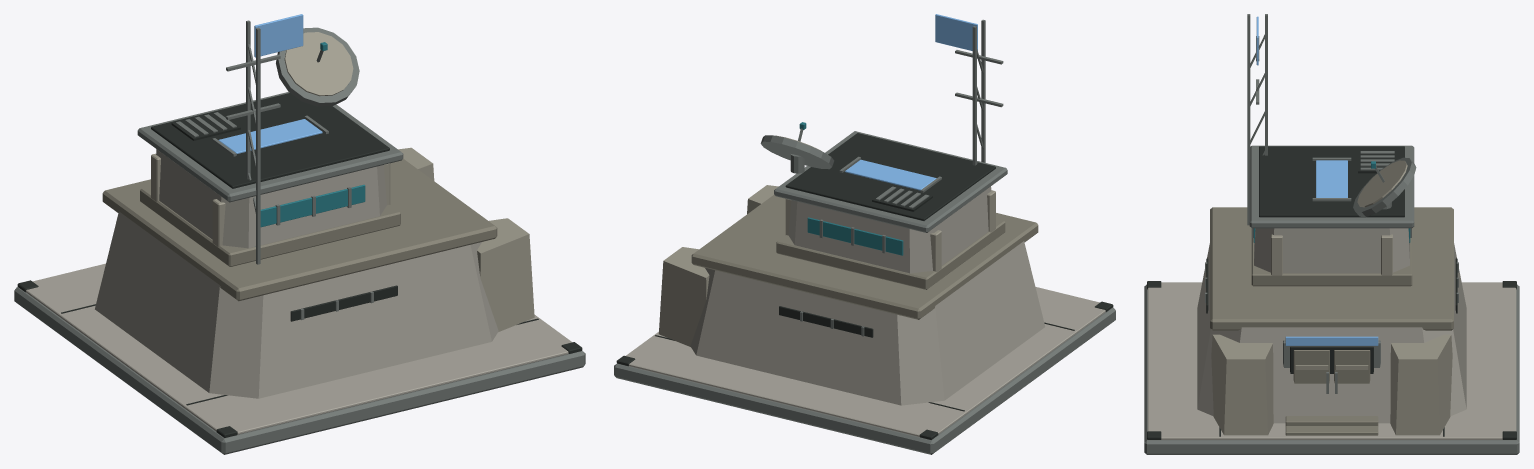
Rendered from command_bunker.glb.
3 renders of one model, left to right at view 1: azimuth 30°, elevation 25°; view 2: azimuth 150°, elevation 25°; view 3: azimuth 270°, elevation 25°, orthographic. The views are drawn at different scales.
Parts seen in each view (by area): view 1: command_bunker; view 2: command_bunker; view 3: command_bunker.
Part boxes in pixels (box(x1,y1,x2,y2)): command_bunker: box(14, 14, 585, 454); command_bunker: box(614, 14, 1115, 454); command_bunker: box(1144, 14, 1519, 454).
Bounding box in the file's own units: 4.7 × 4.47 × 4.7.
